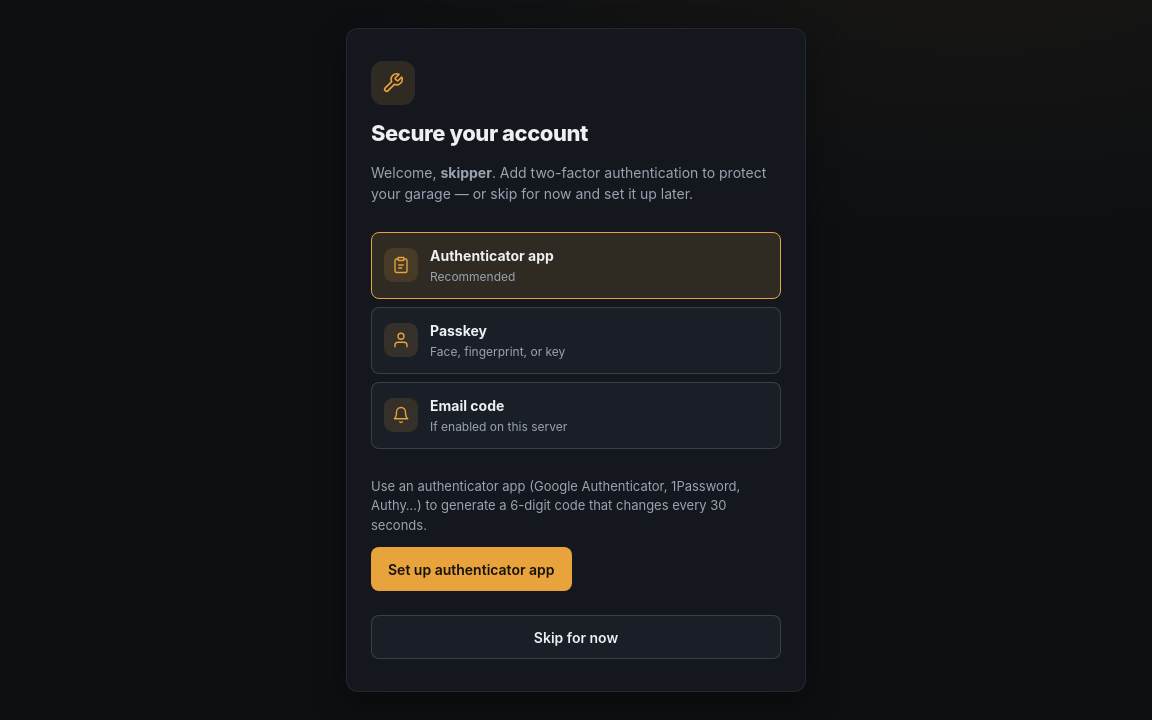
Test case: App auth gate › skips the interstitial and enters the app with the persistent nudge banner
This screenshot has width=1152, height=720.
Click the button "Skip for now".
click(576, 637)  # box x1=371 y1=615 x2=781 y2=659
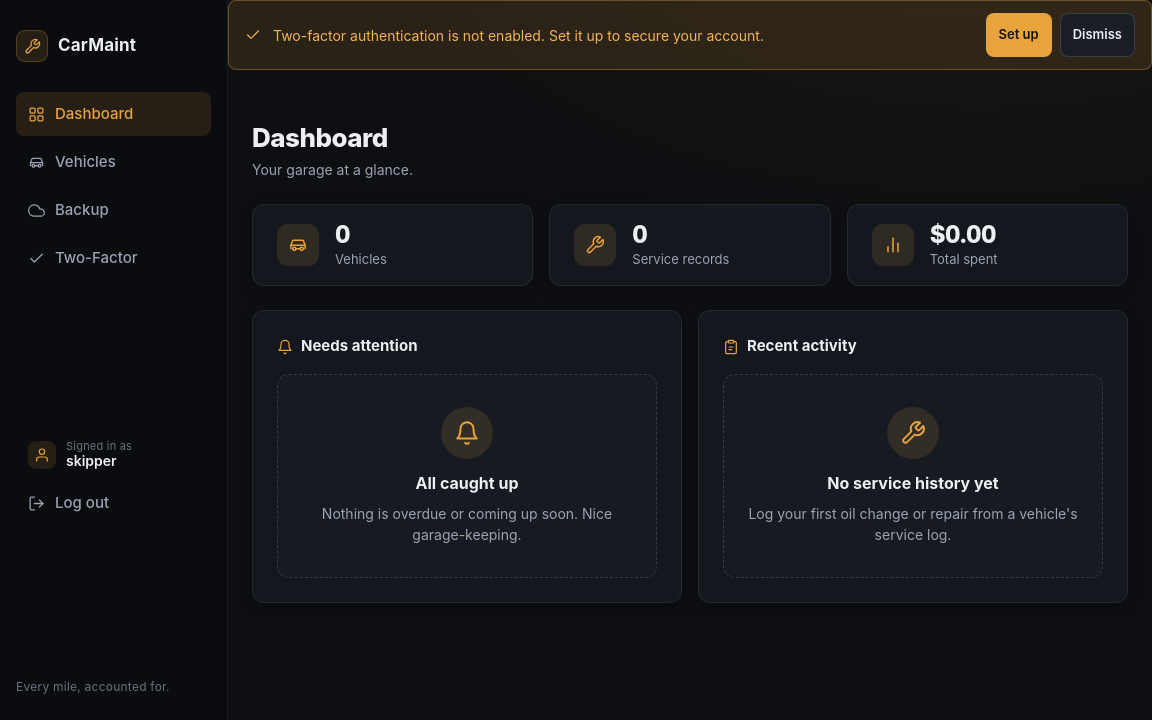
Expected: the button "Log out" is shown, x1=16 y1=481 x2=211 y2=525
Expected: the text "Two-factor authentication is not enabled" is shown, x1=273 y1=26 x2=764 y2=44
Note: Dismissing hides the banner for the session.
Click the button "Dismiss".
click(1097, 35)  # box x1=1060 y1=13 x2=1135 y2=57
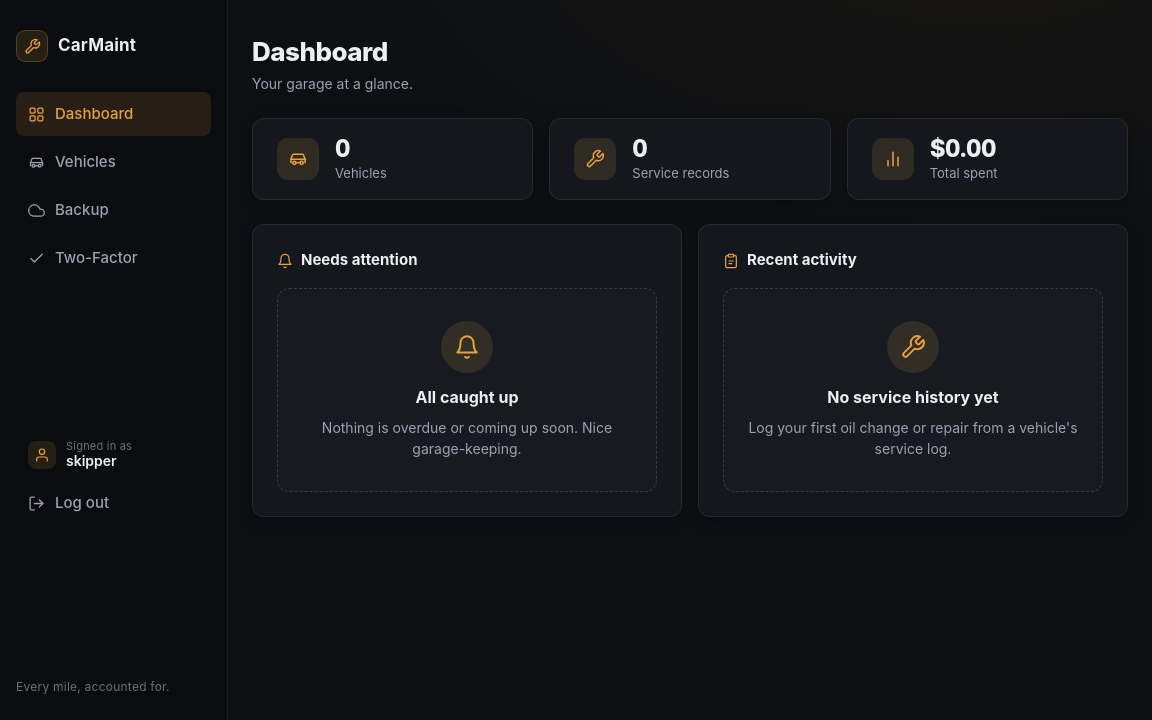
Expected: the text "Two-factor authentication is not enabled" is gone
